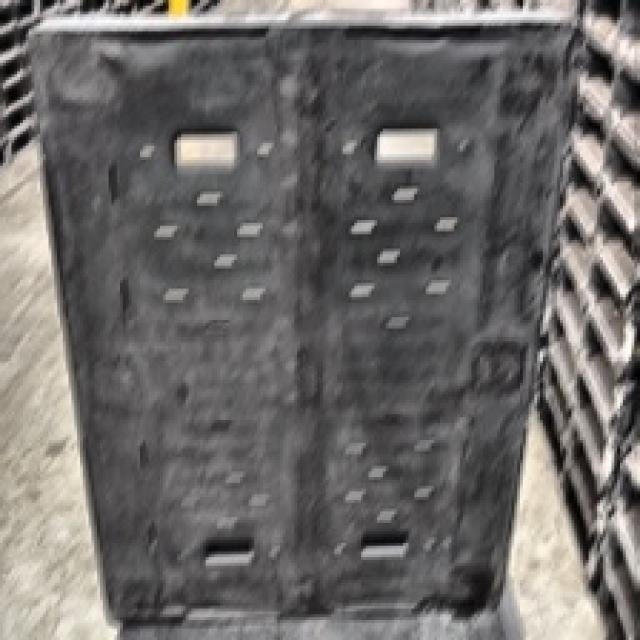igps: (14, 0, 598, 640)
